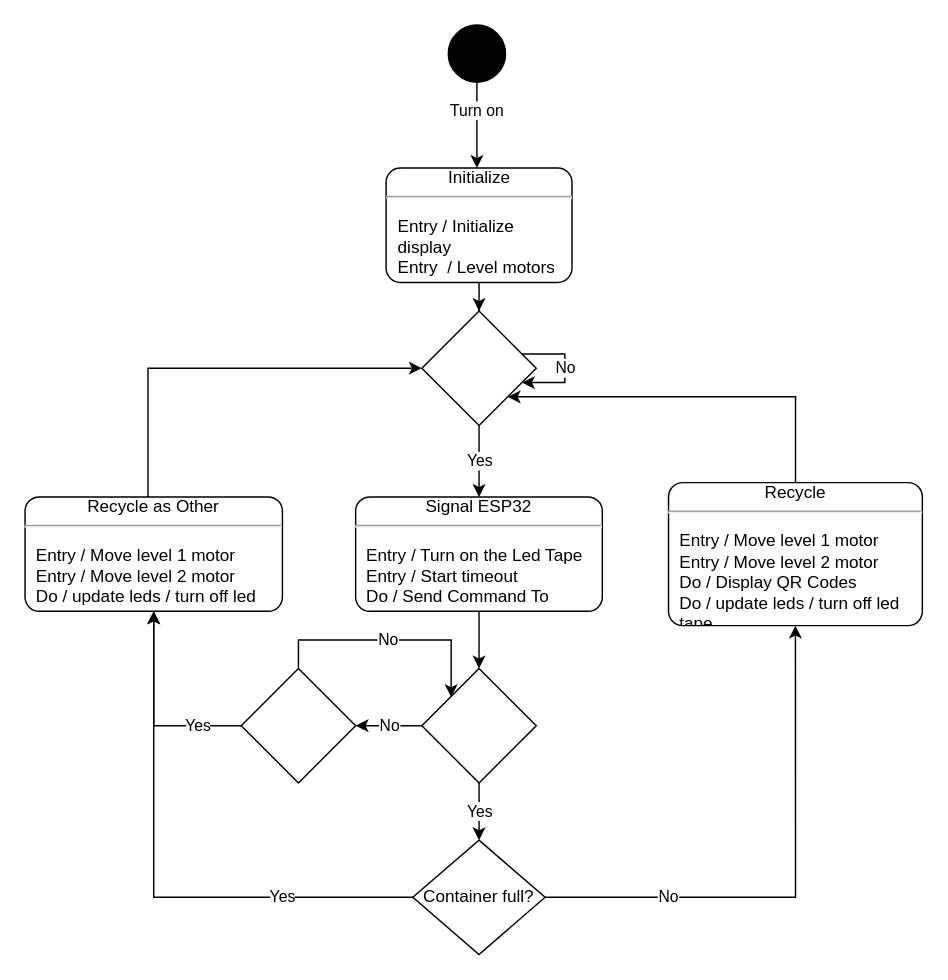
This 948x980 diagram has some shape labels left out. Here are the shapes that lost their labels. From the top down, the box of each, then its label:
(420, 310, 536, 425): IR sensor blocked?
(240, 667, 356, 783): Timed out?
(420, 667, 536, 783): Response received?
